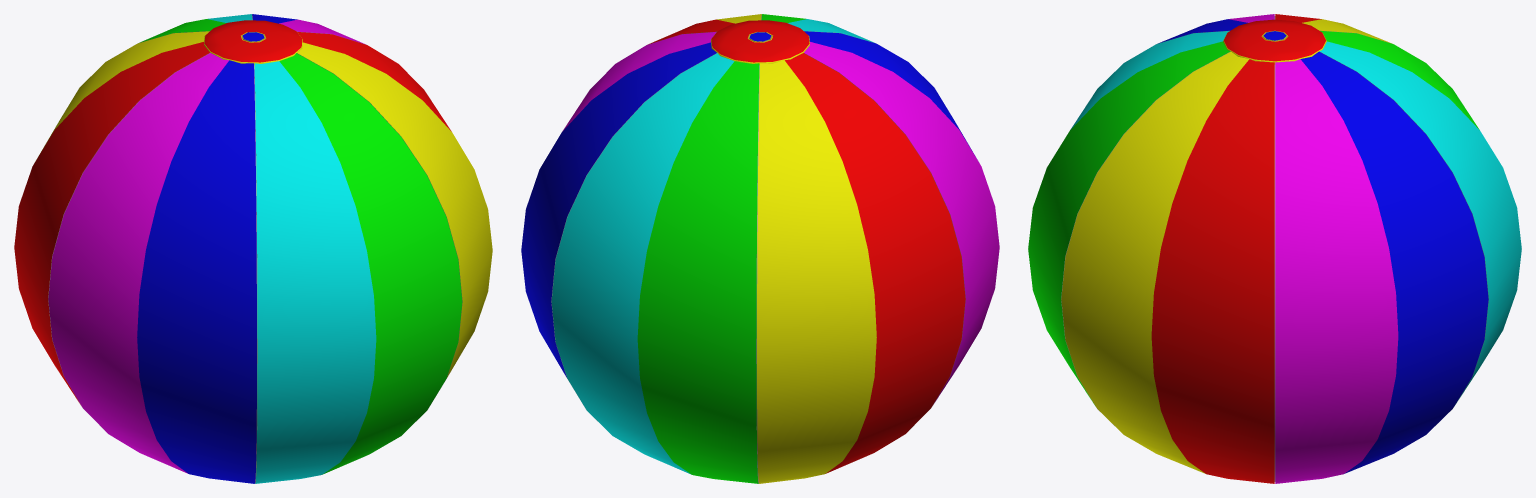
Rendered from piłka.fbx.
3 views of the same model, side by side, from view 1: azimuth 30°, elevation 25°; view 2: azimuth 150°, elevation 25°; view 3: azimuth 270°, elevation 25° (orthographic).
Visible parts, largest first — view 1: BeachBall:Mesh; view 2: BeachBall:Mesh; view 3: BeachBall:Mesh.
Boxes of the visible parts, box(x1,y1,x2,y2) form: BeachBall:Mesh: box(14, 14, 492, 483); BeachBall:Mesh: box(521, 14, 999, 483); BeachBall:Mesh: box(1028, 14, 1521, 483).
Bounding box in the file's own units: 41.14 × 40.68 × 42.67.
